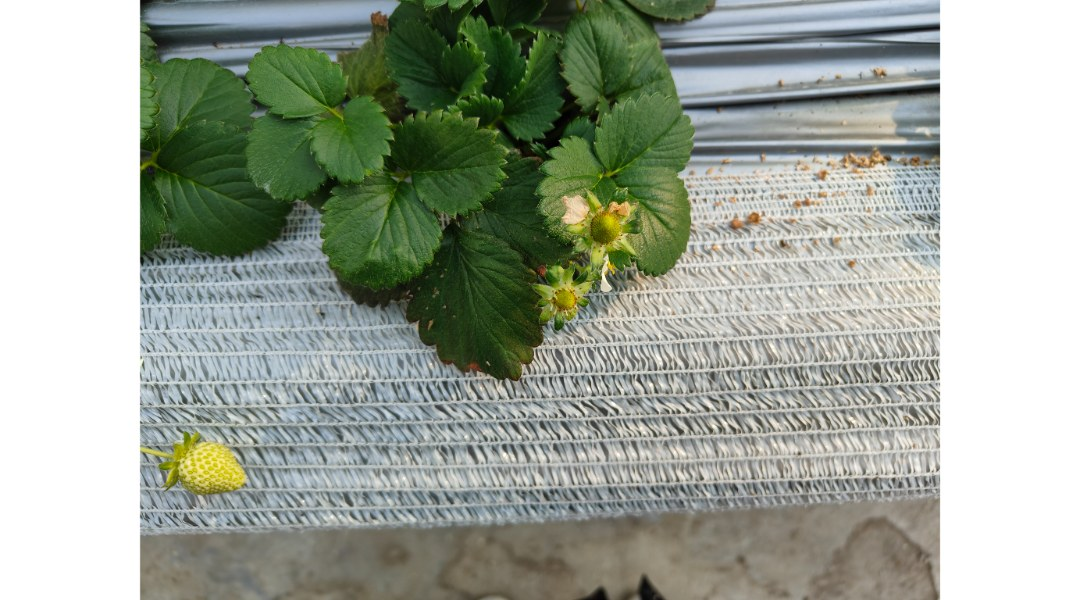berry: (166, 428, 260, 516), (508, 266, 596, 333), (576, 205, 655, 265)
strain: (121, 443, 173, 462)
